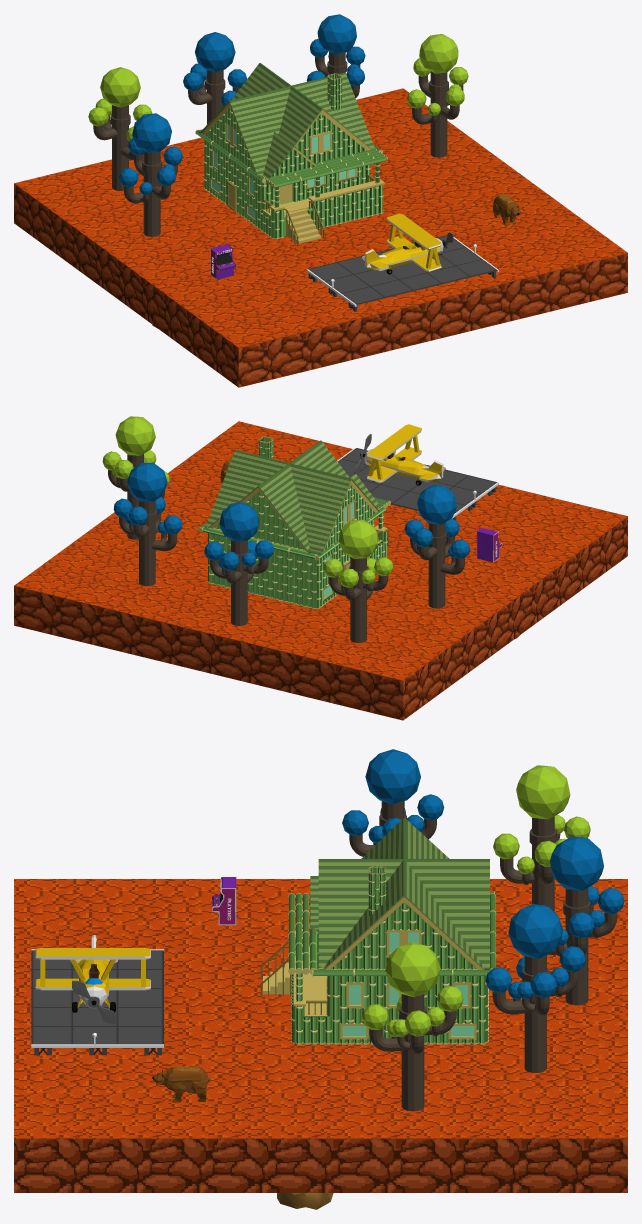
3 renders of one model, top to bottom at view 1: azimuth 30°, elevation 25°; view 2: azimuth 150°, elevation 25°; view 3: azimuth 270°, elevation 25°, orthographic. The views are drawn at different scales.
Parts seen in each view (by area): view 1: Cube.001, Cube.1327, VEHICLES_AIRPLANE, OBJRANDOM_ARCADE, ANIMAL_OSO; view 2: Cube.001, Cube.1327, VEHICLES_AIRPLANE, OBJRANDOM_ARCADE; view 3: Cube.001, Cube.1327, VEHICLES_AIRPLANE, ANIMAL_OSO, OBJRANDOM_ARCADE, UNDERGROUND_T_REX_BONES.
Boxes of the visible parts, bbox=[...] form: Cube.001: bbox=[14, 14, 627, 387]; Cube.1327: bbox=[195, 63, 387, 244]; VEHICLES_AIRPLANE: bbox=[362, 213, 453, 274]; OBJRANDOM_ARCADE: bbox=[210, 244, 235, 279]; ANIMAL_OSO: bbox=[493, 194, 520, 225]; Cube.001: bbox=[14, 416, 627, 720]; Cube.1327: bbox=[198, 436, 390, 608]; VEHICLES_AIRPLANE: bbox=[354, 424, 445, 485]; OBJRANDOM_ARCADE: bbox=[477, 527, 502, 562]; Cube.001: bbox=[14, 749, 627, 1192]; Cube.1327: bbox=[260, 818, 496, 1044]; VEHICLES_AIRPLANE: bbox=[35, 935, 150, 1023]; ANIMAL_OSO: bbox=[152, 1066, 210, 1102]; OBJRANDOM_ARCADE: bbox=[212, 877, 236, 925]; UNDERGROUND_T_REX_BONES: bbox=[277, 1193, 333, 1209].
Bounding box in the file's own units: 4000 × 1777 × 4000.
Materials: 40 (5 with a texture image).
